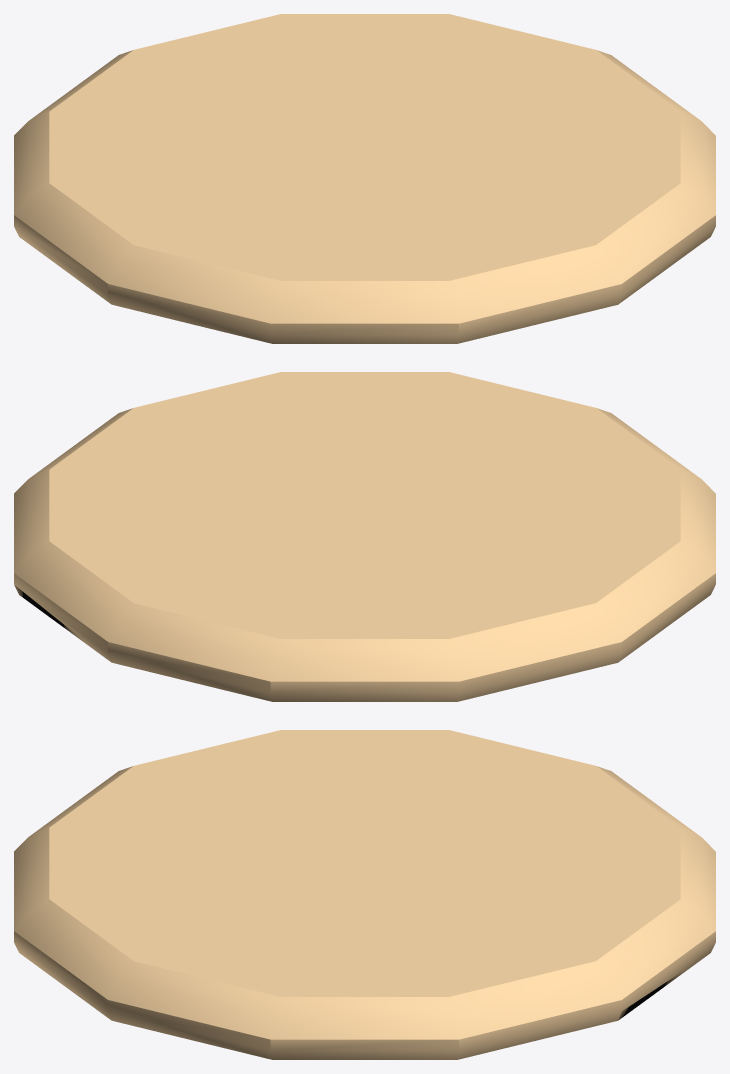
The model's file is dough.fbx.
The picture shows the model from 3 angles, top to bottom: view 1: azimuth 30°, elevation 25°; view 2: azimuth 150°, elevation 25°; view 3: azimuth 270°, elevation 25°; orthographic projection.
Parts seen in each view (by area): view 1: flatten dough; view 2: flatten dough; view 3: flatten dough.
Boxes of the visible parts, bbox=[...] form: flatten dough: bbox=[14, 14, 715, 343]; flatten dough: bbox=[14, 372, 715, 701]; flatten dough: bbox=[14, 730, 715, 1059].
Bounding box in the file's own units: 33.41 × 2.87 × 33.41.
